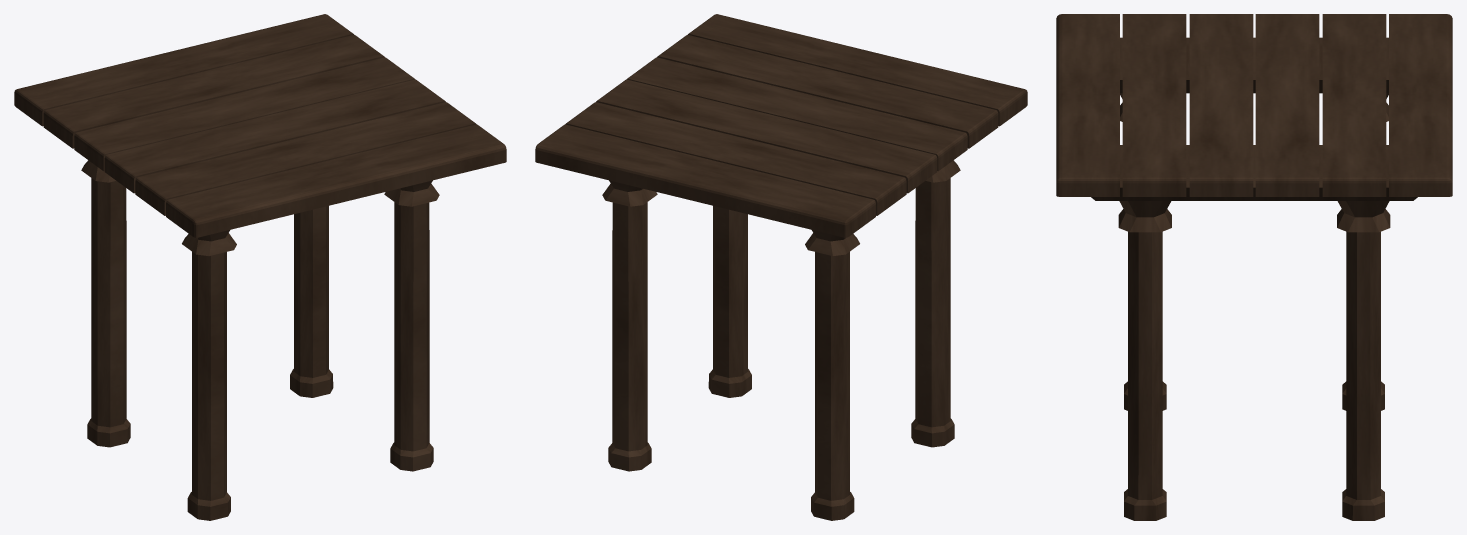
File: woodstand01-2.fbx
3 views of the same model, side by side, from view 1: azimuth 30°, elevation 25°; view 2: azimuth 150°, elevation 25°; view 3: azimuth 270°, elevation 25° (orthographic). The views are drawn at different scales.
Visible parts, largest first — view 1: wooden stand.002; view 2: wooden stand.002; view 3: wooden stand.002.
Boxes of the visible parts, box(x1,y1,x2,y2) form: wooden stand.002: box(14, 14, 506, 520); wooden stand.002: box(535, 14, 1027, 520); wooden stand.002: box(1056, 14, 1452, 520).
Bounding box in the file's own units: 97.51 × 99.31 × 98.36.
